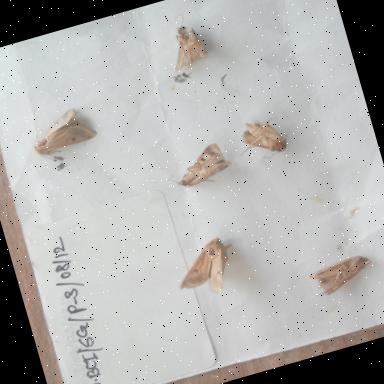abw: (166, 222, 256, 308), (19, 98, 108, 170), (224, 104, 306, 178), (156, 134, 240, 204), (297, 242, 384, 308), (155, 10, 224, 80)
